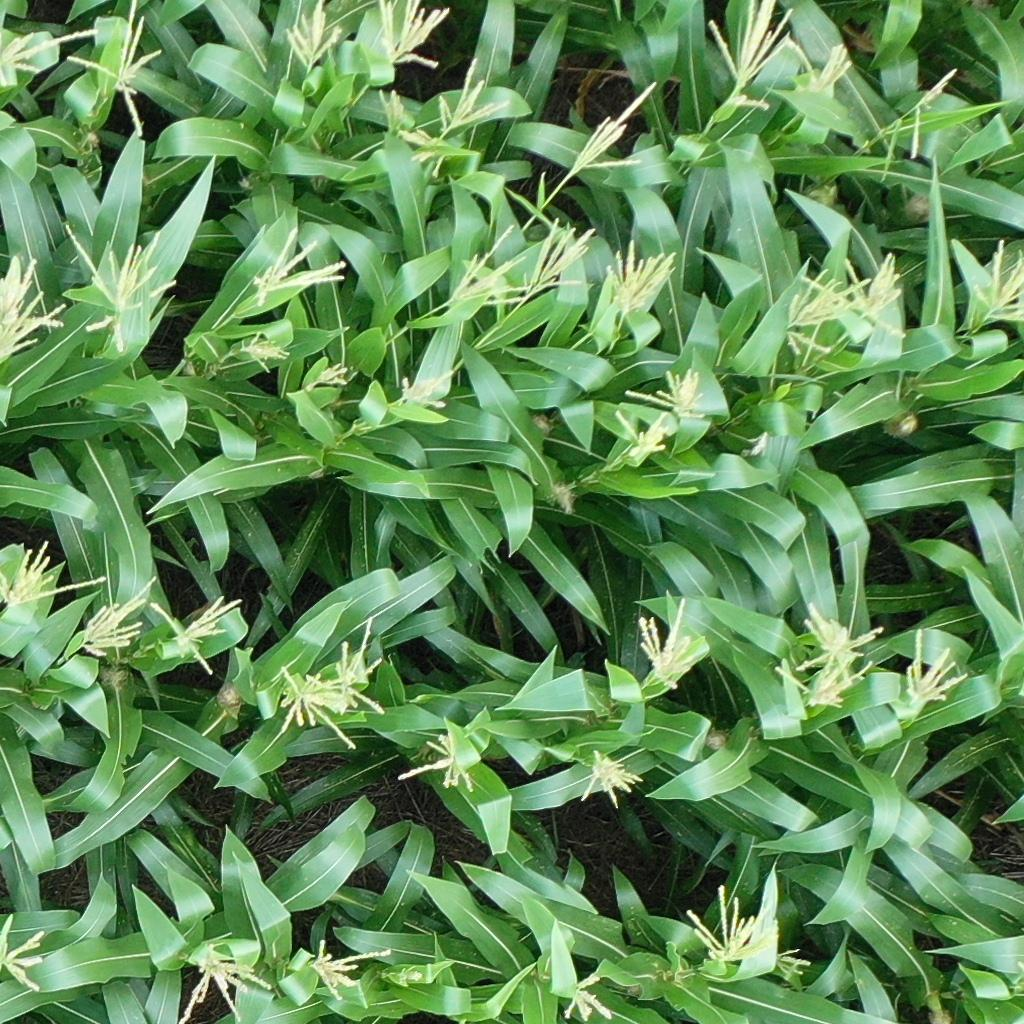Tassel: (67, 223, 178, 356), (70, 1, 165, 143), (706, 1, 795, 112), (570, 77, 663, 174), (149, 592, 247, 682), (243, 226, 351, 306), (681, 882, 778, 971), (178, 943, 278, 1024), (268, 665, 358, 754), (829, 253, 913, 344), (1, 542, 112, 610), (444, 222, 531, 308), (1, 252, 67, 364), (81, 575, 157, 671), (794, 597, 885, 674), (597, 240, 680, 322), (327, 618, 392, 719), (779, 262, 846, 357), (307, 933, 395, 1002), (521, 218, 597, 295), (1, 27, 97, 87), (900, 626, 966, 713), (377, 1, 454, 74), (774, 659, 876, 714), (637, 595, 695, 691), (437, 57, 513, 130), (968, 232, 1023, 326), (905, 63, 958, 158), (624, 363, 709, 421), (1, 908, 58, 994), (396, 735, 475, 797), (280, 1, 346, 75), (785, 30, 851, 101), (576, 745, 647, 811), (609, 404, 677, 463), (394, 367, 461, 421), (399, 124, 451, 181), (559, 970, 614, 1021), (240, 327, 294, 377), (376, 87, 418, 140), (311, 362, 366, 397), (775, 945, 816, 985), (385, 963, 428, 989)
